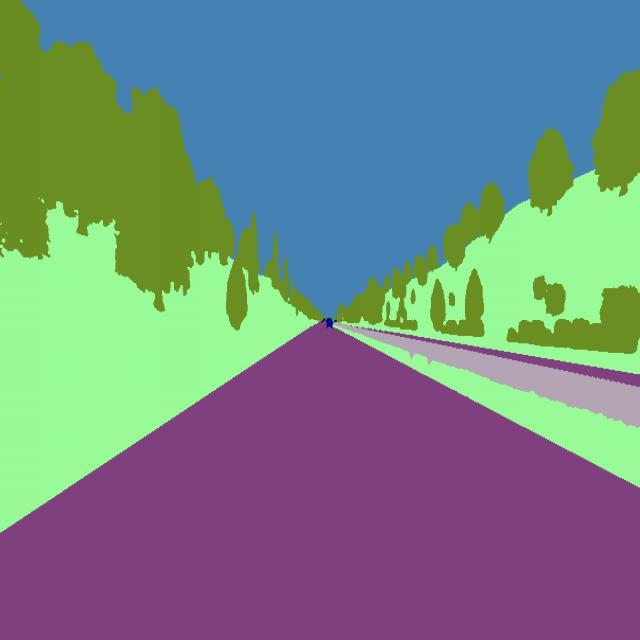safe: (324, 314, 334, 331)
